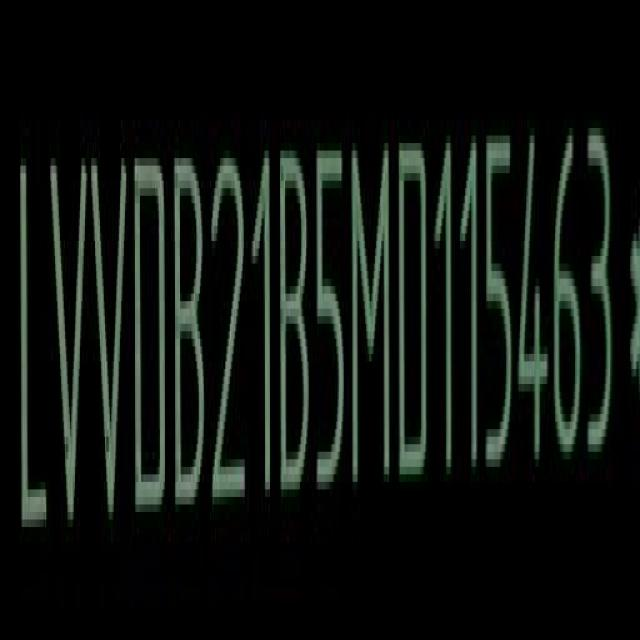1: (254, 148, 276, 513), (438, 134, 456, 486), (462, 131, 478, 485)
2: (212, 150, 249, 518)
3: (589, 122, 617, 462)
4: (520, 124, 550, 478)
5: (316, 143, 347, 497), (484, 127, 514, 475)
6: (554, 127, 585, 469)
B: (176, 153, 210, 521), (279, 148, 312, 507)
D: (132, 152, 168, 528), (395, 123, 430, 485)
L: (15, 149, 47, 554)
M: (352, 138, 392, 494)
V: (49, 154, 87, 546), (92, 150, 130, 540)
